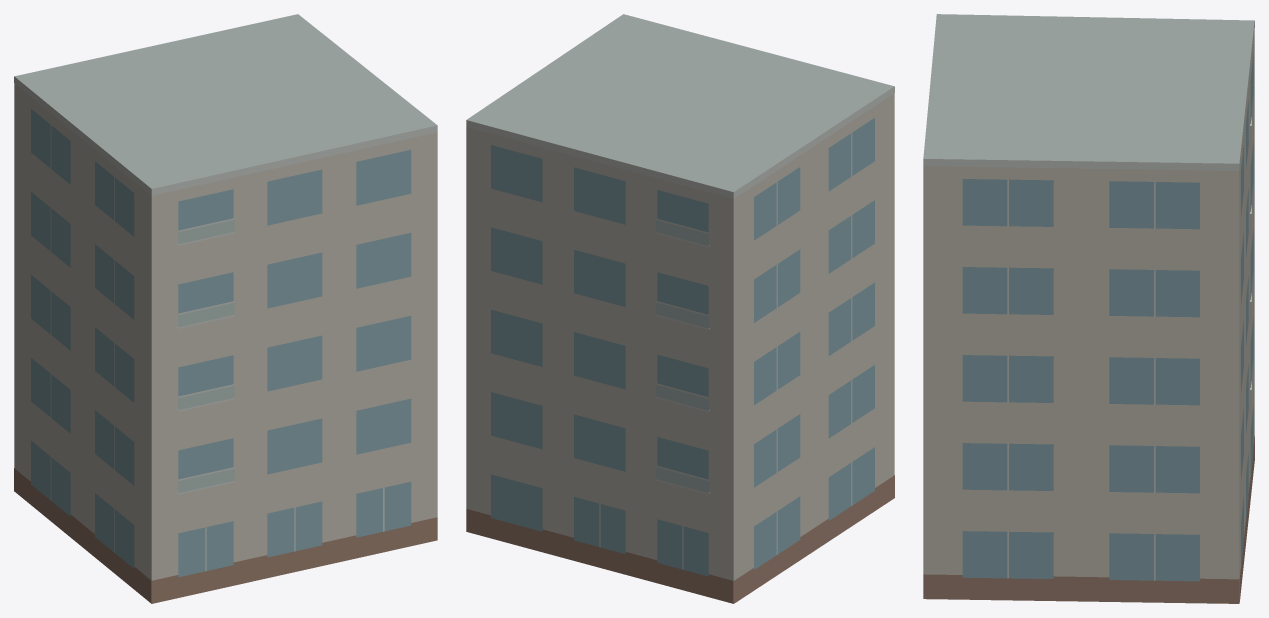
The model's file is survey-upis-32832271.glb.
3 renders of one model, left to right at view 1: azimuth 30°, elevation 25°; view 2: azimuth 150°, elevation 25°; view 3: azimuth 270°, elevation 25°, orthographic. The views are drawn at different scales.
Parts seen in each view (by area): view 1: survey-upis-32832271.tmp; view 2: survey-upis-32832271.tmp; view 3: survey-upis-32832271.tmp.
Boxes of the visible parts, bbox=[...] form: survey-upis-32832271.tmp: bbox=[14, 14, 437, 603]; survey-upis-32832271.tmp: bbox=[466, 14, 894, 603]; survey-upis-32832271.tmp: bbox=[923, 14, 1254, 603].
Size of the model in its own units: 10.8 by 14.8 by 10.11.
